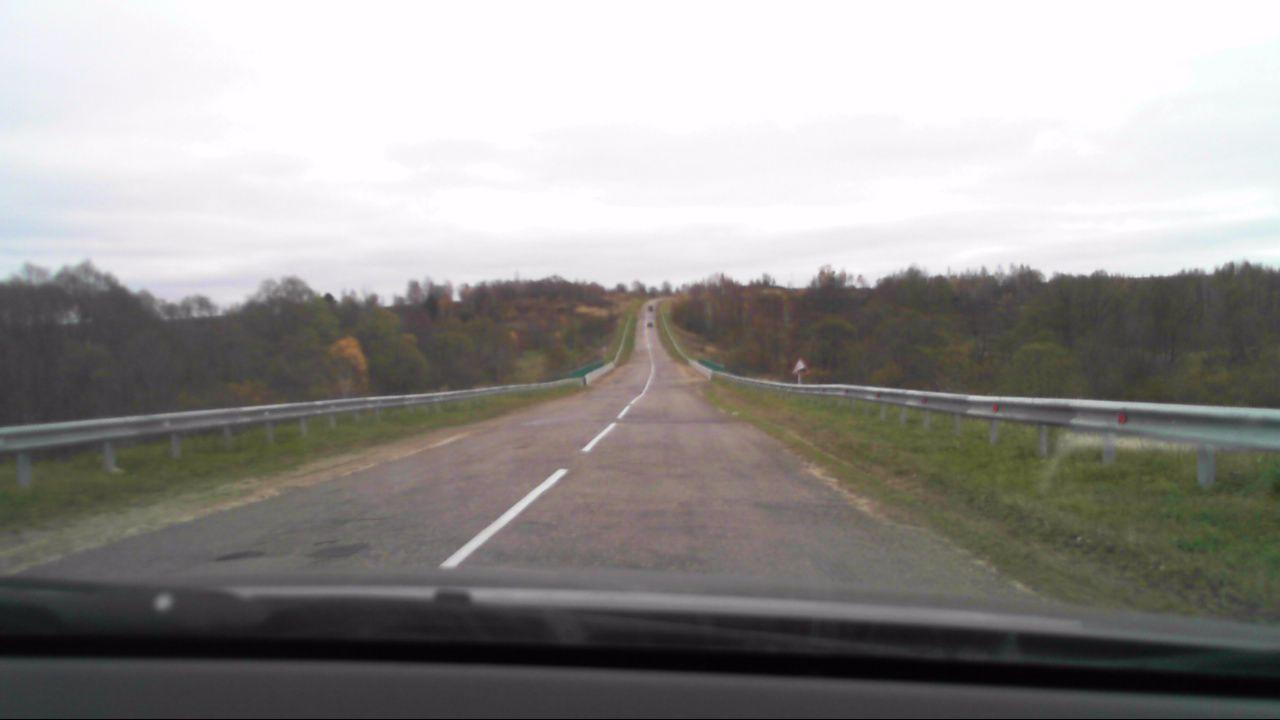1_14: (790, 355, 811, 376)
